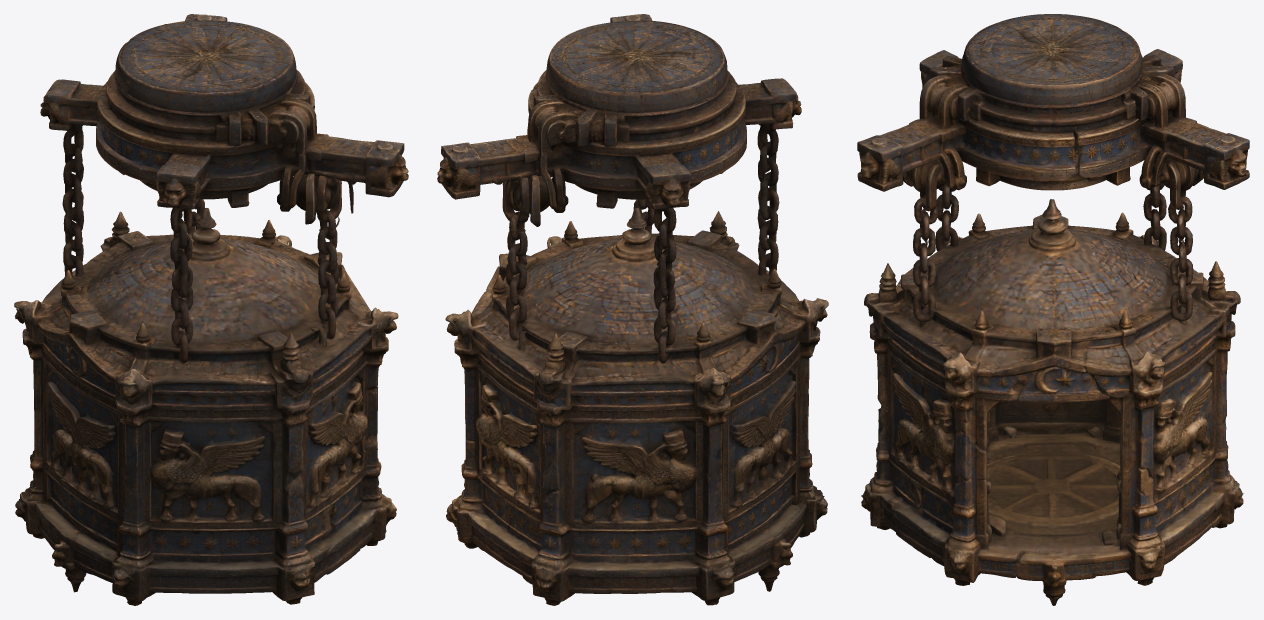
File: مصعد فم الهاوية.glb
3 renders of one model, left to right at view 1: azimuth 30°, elevation 25°; view 2: azimuth 150°, elevation 25°; view 3: azimuth 270°, elevation 25°, orthographic.
Parts seen in each view (by area): view 1: tripo_node_ef64e5c5-d0d4-4223-9345-46b6f5fa6305; view 2: tripo_node_ef64e5c5-d0d4-4223-9345-46b6f5fa6305; view 3: tripo_node_ef64e5c5-d0d4-4223-9345-46b6f5fa6305.
Boxes of the visible parts, <box> form: tripo_node_ef64e5c5-d0d4-4223-9345-46b6f5fa6305: <box>14,14,408,605</box>; tripo_node_ef64e5c5-d0d4-4223-9345-46b6f5fa6305: <box>437,14,828,605</box>; tripo_node_ef64e5c5-d0d4-4223-9345-46b6f5fa6305: <box>857,14,1249,605</box>.
Bounding box in the file's own units: 0.6408 × 1 × 0.7169.
1 material, 1 textured.
